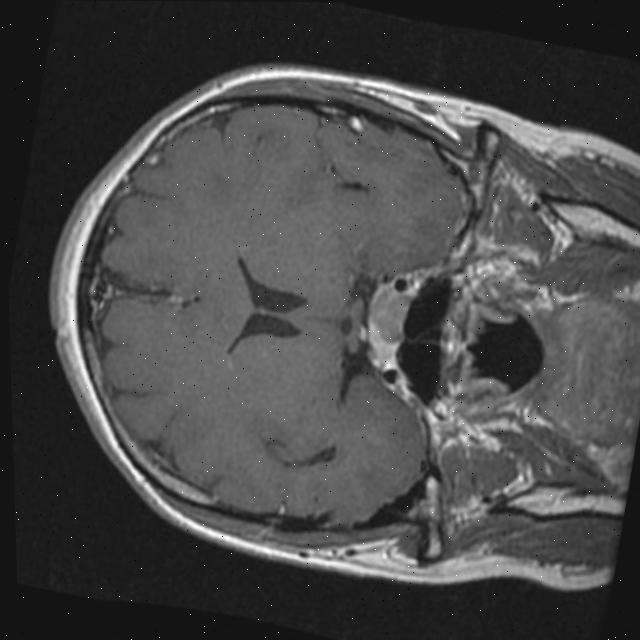Pituitary: (350, 283, 414, 369)
